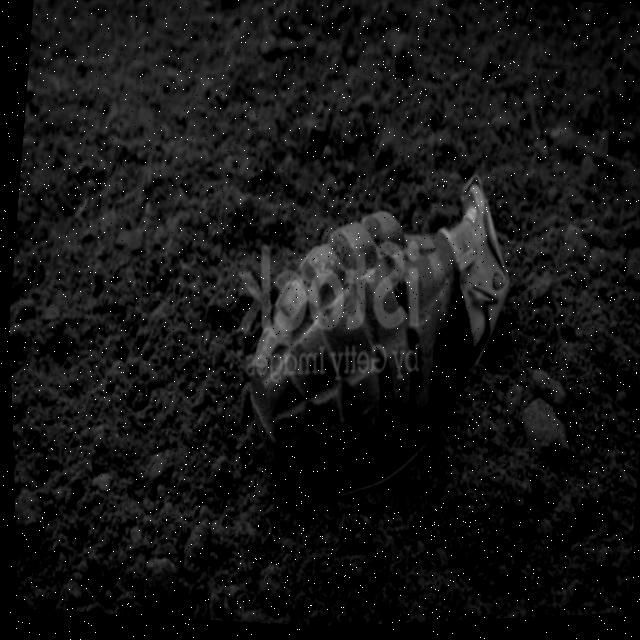grenade: (211, 150, 540, 525)
